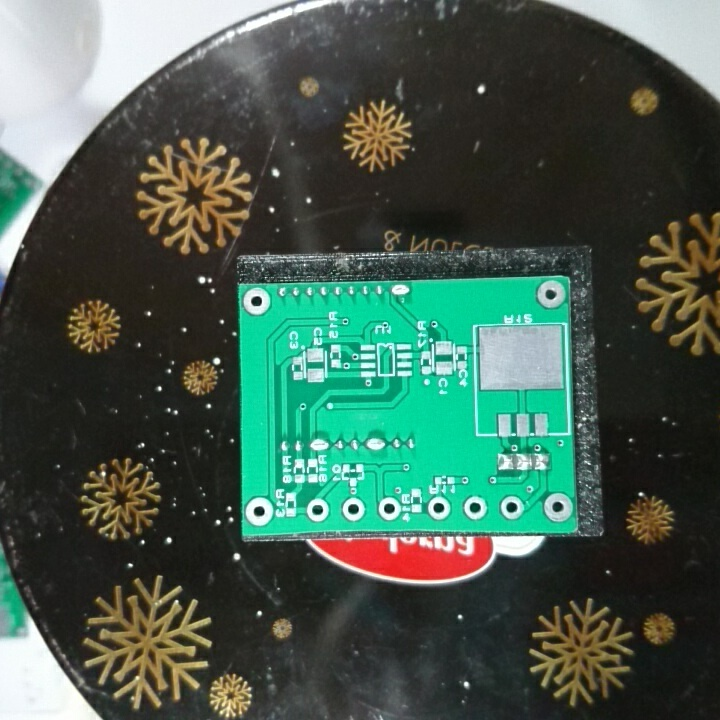F: (244, 495, 275, 529), (242, 286, 274, 318), (534, 279, 567, 309), (543, 491, 573, 524), (339, 495, 367, 523), (461, 492, 488, 521), (499, 495, 525, 522), (305, 497, 331, 523), (426, 494, 451, 521), (377, 496, 402, 522)
P: (364, 435, 388, 455), (389, 281, 413, 300), (308, 435, 330, 455)
